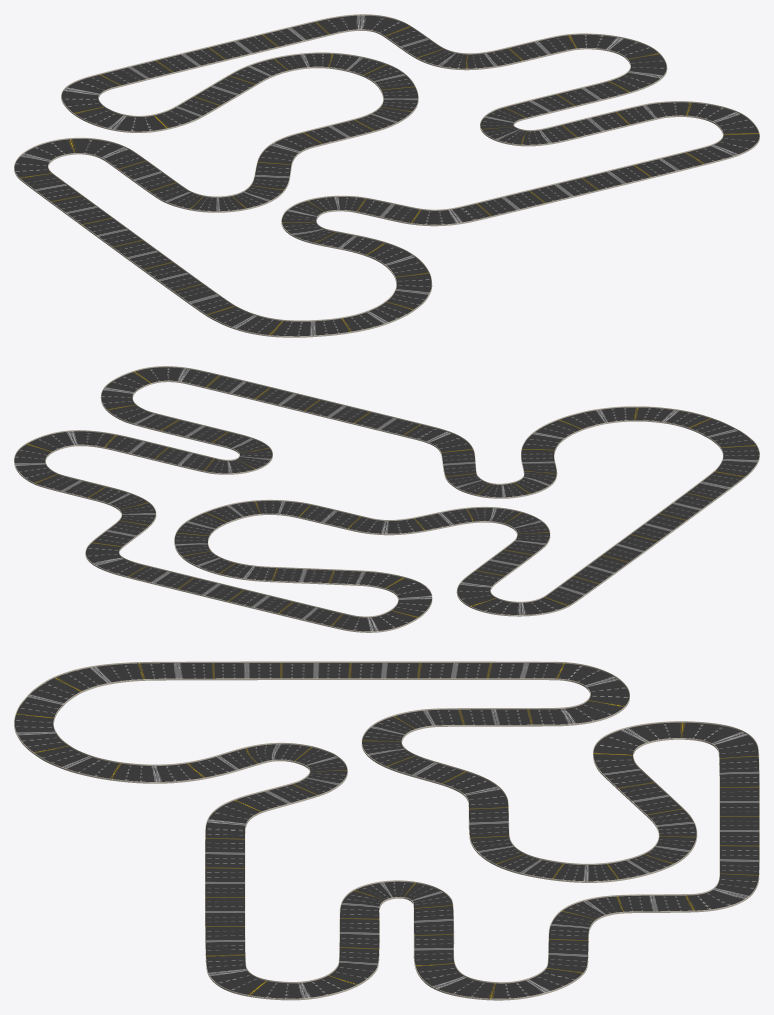
File: raod futureas.fbx
3 renders of one model, top to bottom at view 1: azimuth 30°, elevation 25°; view 2: azimuth 150°, elevation 25°; view 3: azimuth 270°, elevation 25°, orthographic. The views are drawn at different scales.
Parts seen in each view (by area): view 1: Object001, Shape1; view 2: Object001, Shape1; view 3: Object001, Shape1.
Boxes of the visible parts, x1,y1,x2,y2 form: Object001: [14, 15, 759, 336]; Shape1: [14, 14, 759, 337]; Object001: [14, 367, 759, 631]; Shape1: [14, 366, 759, 632]; Object001: [14, 663, 759, 998]; Shape1: [14, 661, 759, 1000].
Size of the model in its own units: 23621 by 50.15 by 22059.
2 materials, 2 textured.
